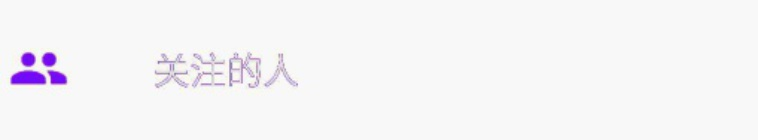CheckedTextView: (1, 1, 757, 139)
